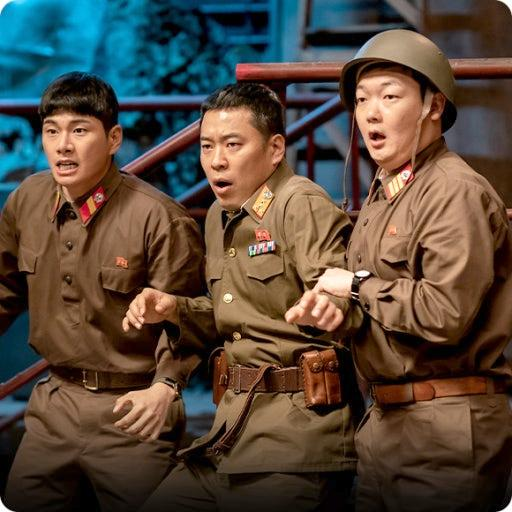north army: (8, 38, 512, 512)
